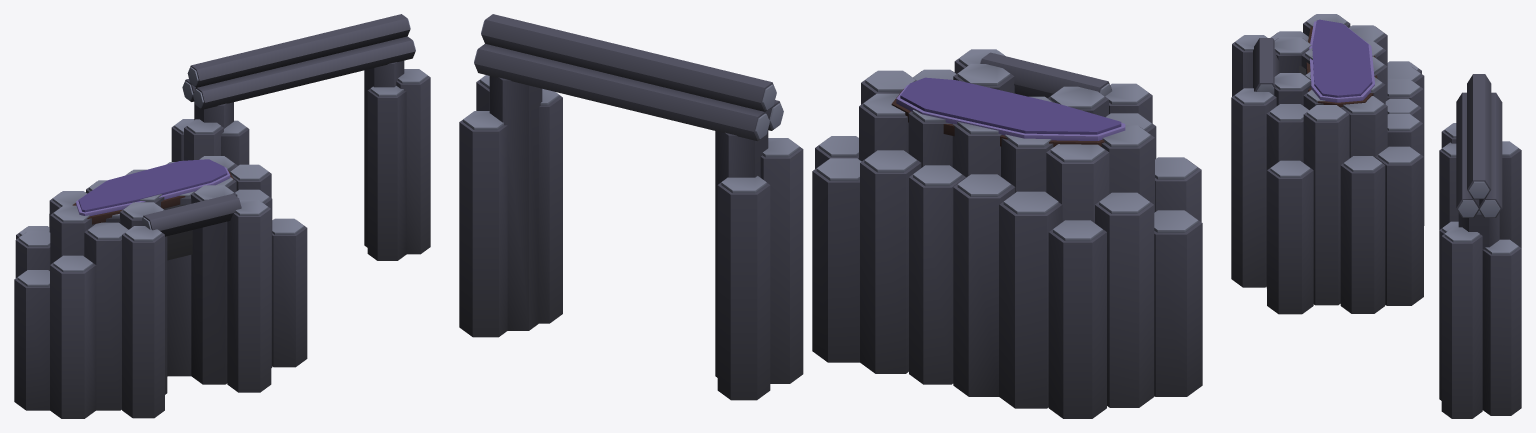
Rendered from smuggler-port-headland.glb.
The picture shows the model from 3 angles, left to right: view 1: azimuth 30°, elevation 25°; view 2: azimuth 150°, elevation 25°; view 3: azimuth 270°, elevation 25°; orthographic projection. The views are drawn at different scales.
Visible parts, largest first — view 1: headland; view 2: headland; view 3: headland.
Part boxes in pixels (x1,y1,x2,y2): headland: (14,14,430,418); headland: (459,14,1202,418); headland: (1231,14,1521,418).
Size of the model in its own units: 23.24 by 10.58 by 11.99.
